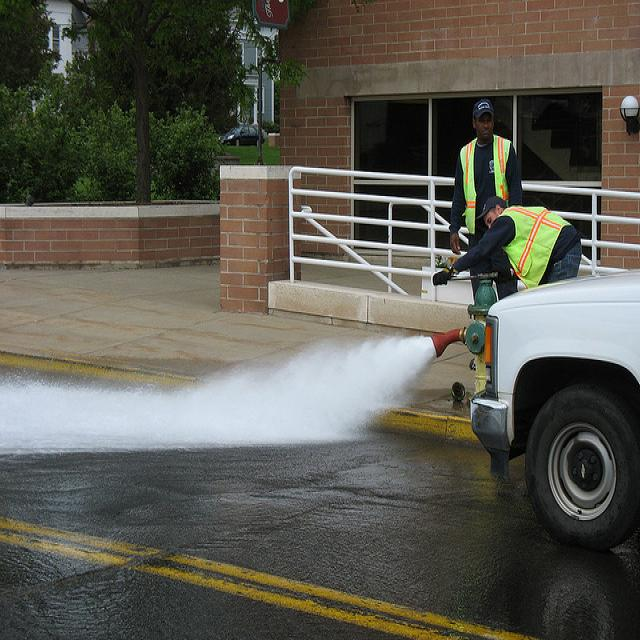Vehicle: (470, 266, 640, 549), (216, 125, 264, 146)
